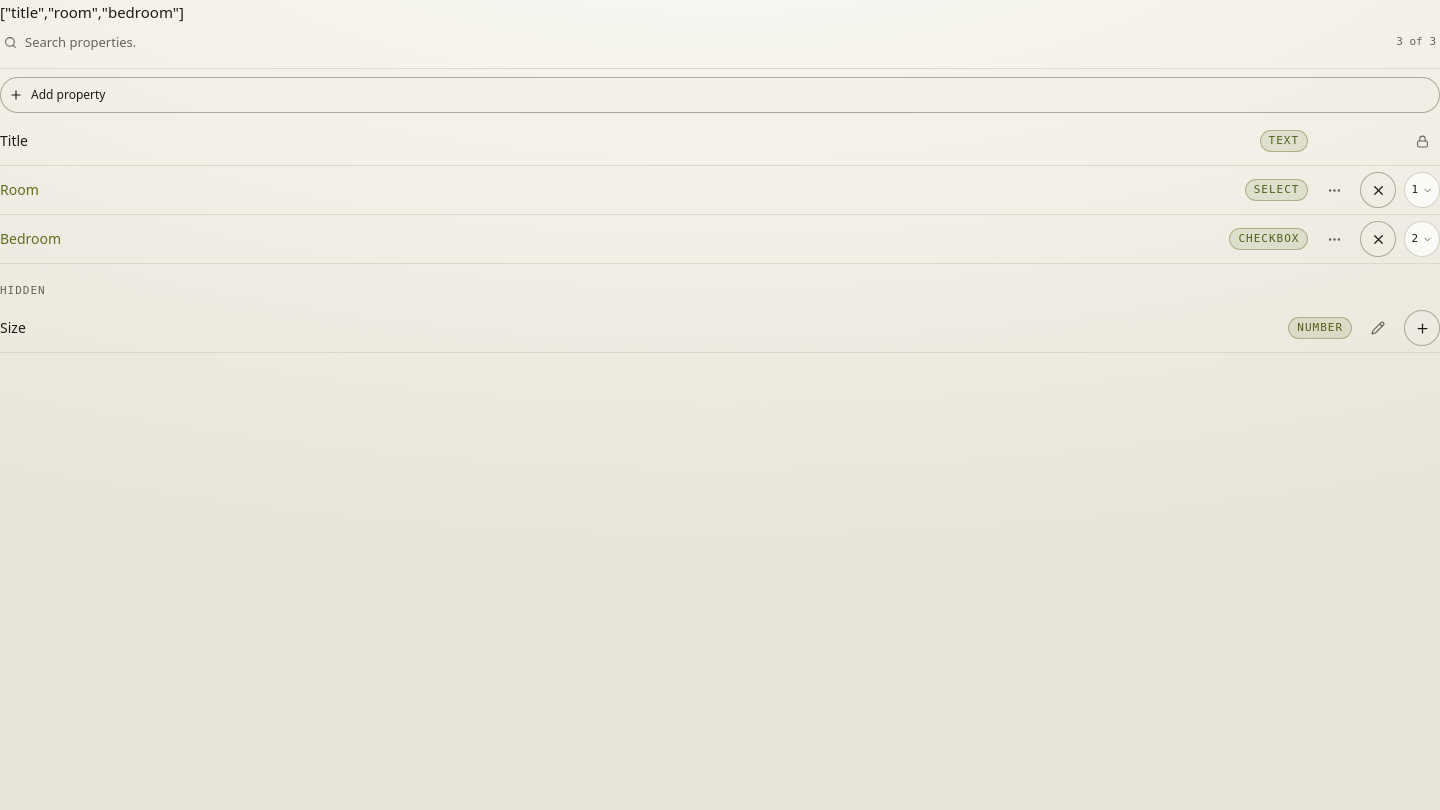
Test: ColumnPanel › opens the property editor from a hidden row's pencil
Click the button named "Edit Size property".
click(1378, 328)  # box 1360,310 -> 1396,346
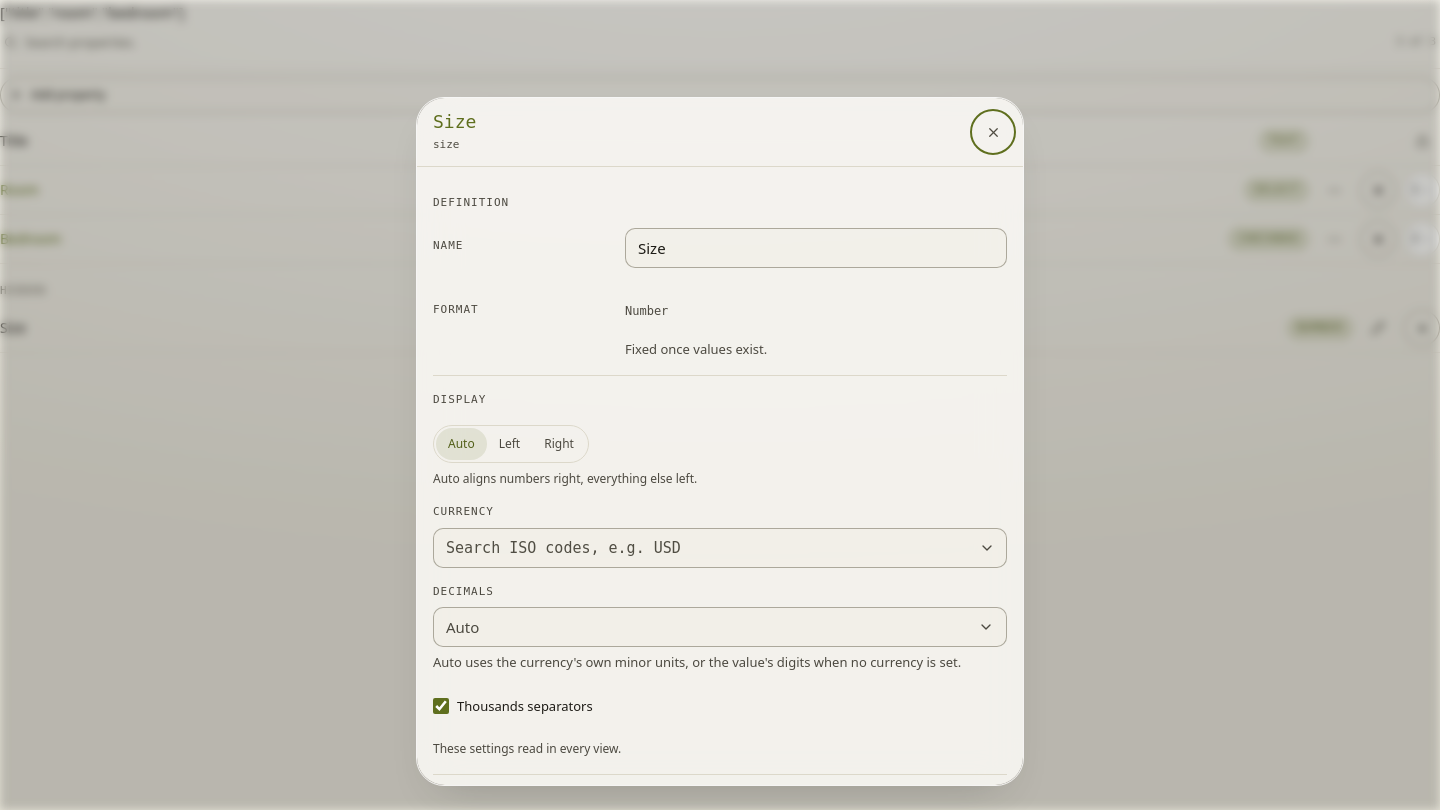
Expected: the dialog "Size" is shown, 416,97 -> 1024,786
